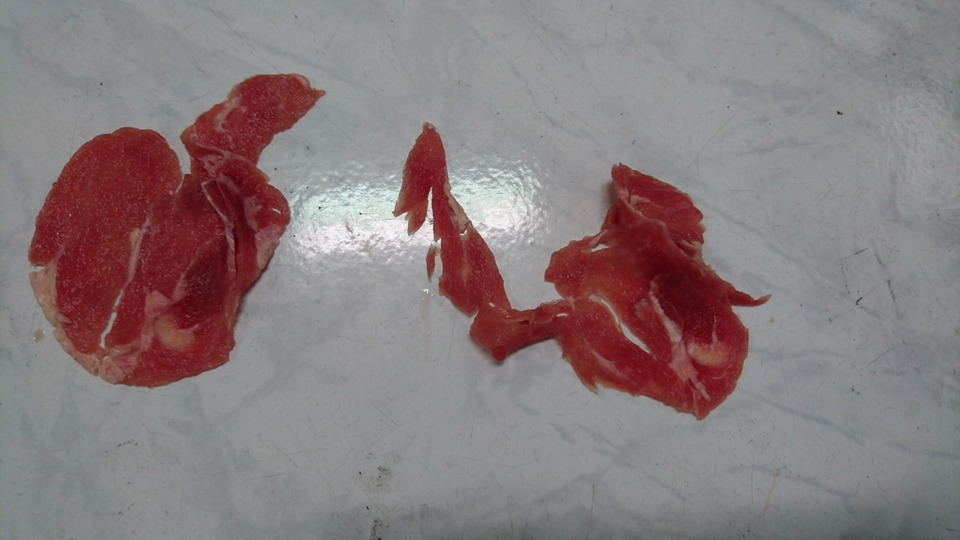restructured meat: (407, 128, 773, 403), (21, 72, 308, 397)
